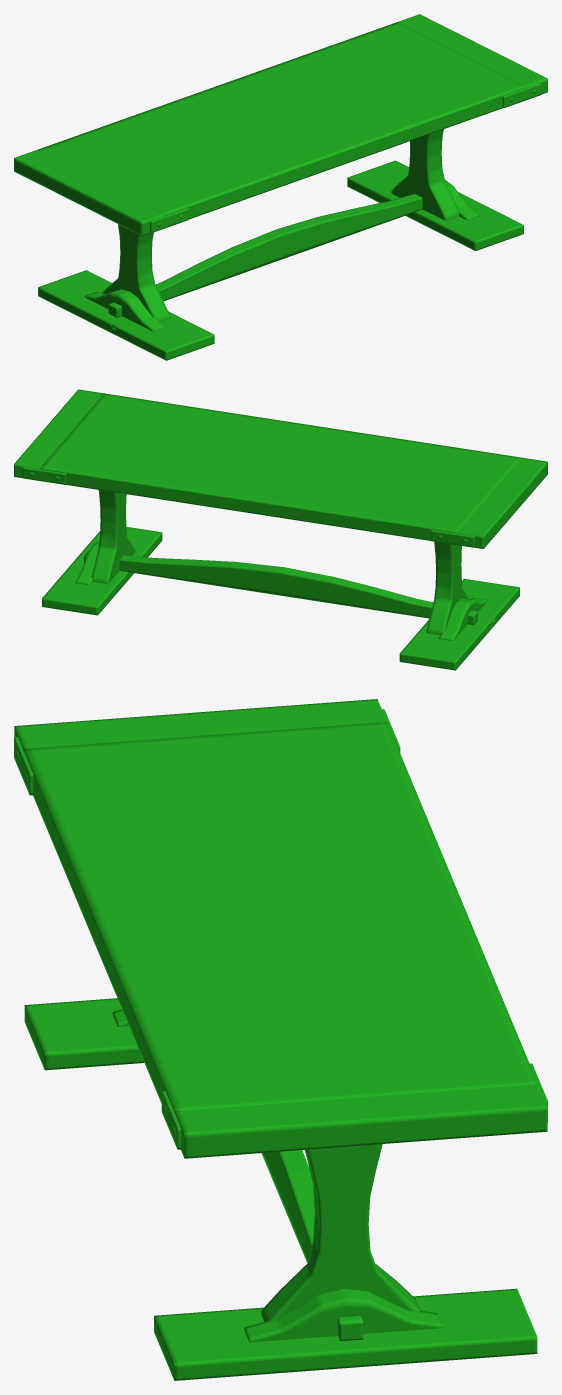
File: table.fbx
The picture shows the model from 3 angles, top to bottom: view 1: azimuth 30°, elevation 25°; view 2: azimuth 150°, elevation 25°; view 3: azimuth 270°, elevation 25°; orthographic projection. The views are drawn at different scales.
Visible parts, largest first — view 1: Table; view 2: Table; view 3: Table.
Part boxes in pixels (left/top/right/bottom): Table: left=14, top=14, right=547, bottom=360; Table: left=14, top=389, right=547, bottom=670; Table: left=14, top=699, right=547, bottom=1380.
Bounding box in the file's own units: 240 × 70.03 × 125.
